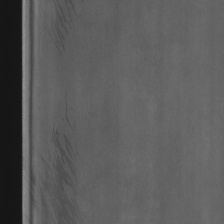water_spot: (35, 108, 81, 224), (48, 6, 90, 55)
